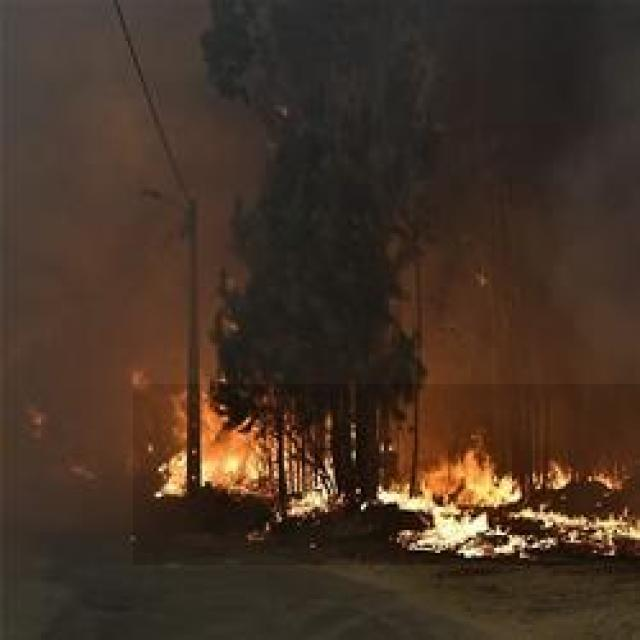Fire: (133, 384, 640, 565)
